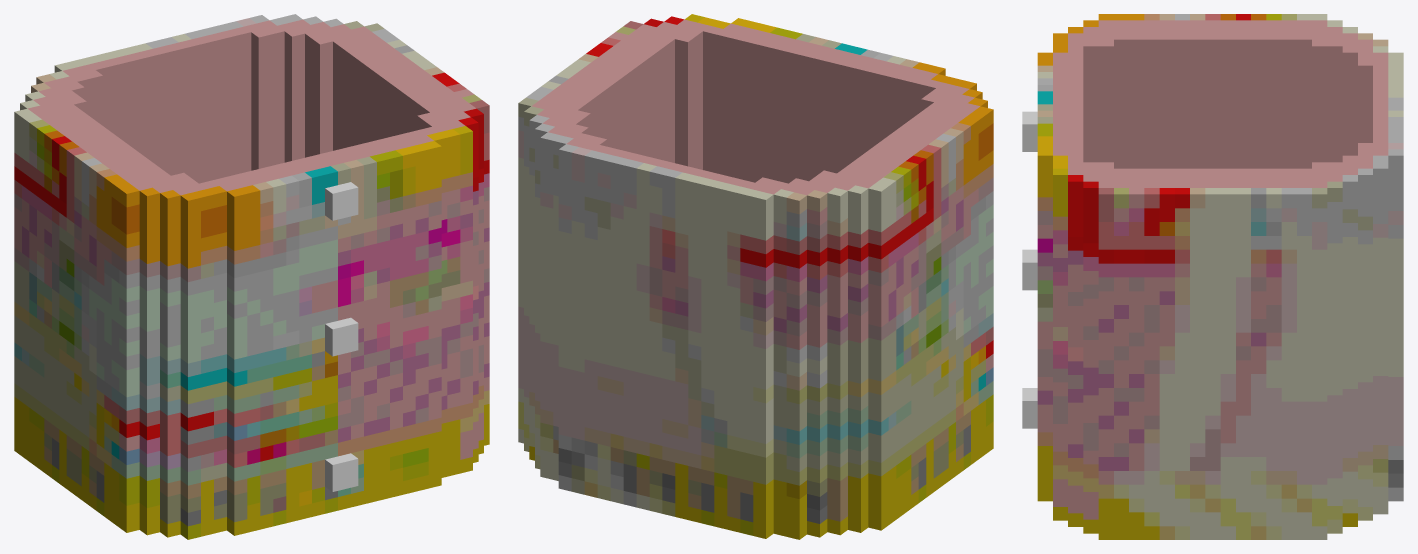
3 views of the same model, side by side, from view 1: azimuth 30°, elevation 25°; view 2: azimuth 150°, elevation 25°; view 3: azimuth 270°, elevation 25° (orthographic).
Bounding box in the file's own units: 1.4 × 1.25 × 1.25.
